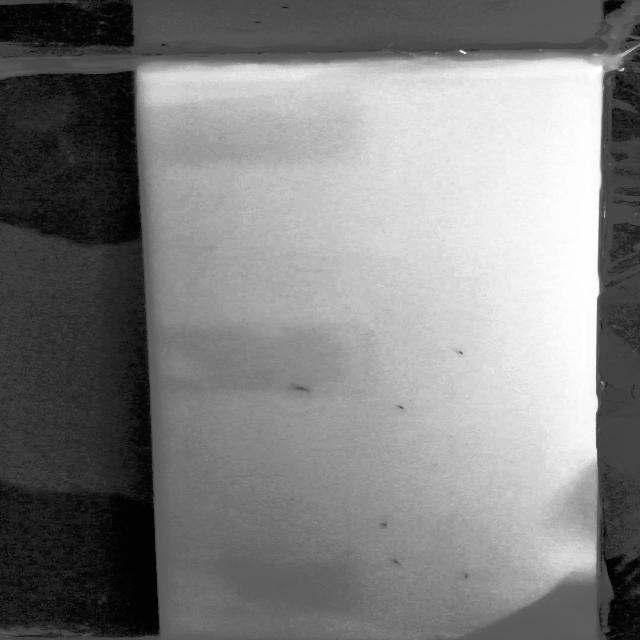shrimp: (387, 558, 407, 570), (290, 384, 314, 394), (372, 520, 393, 531), (389, 400, 410, 411), (455, 571, 475, 581), (456, 349, 470, 359)
